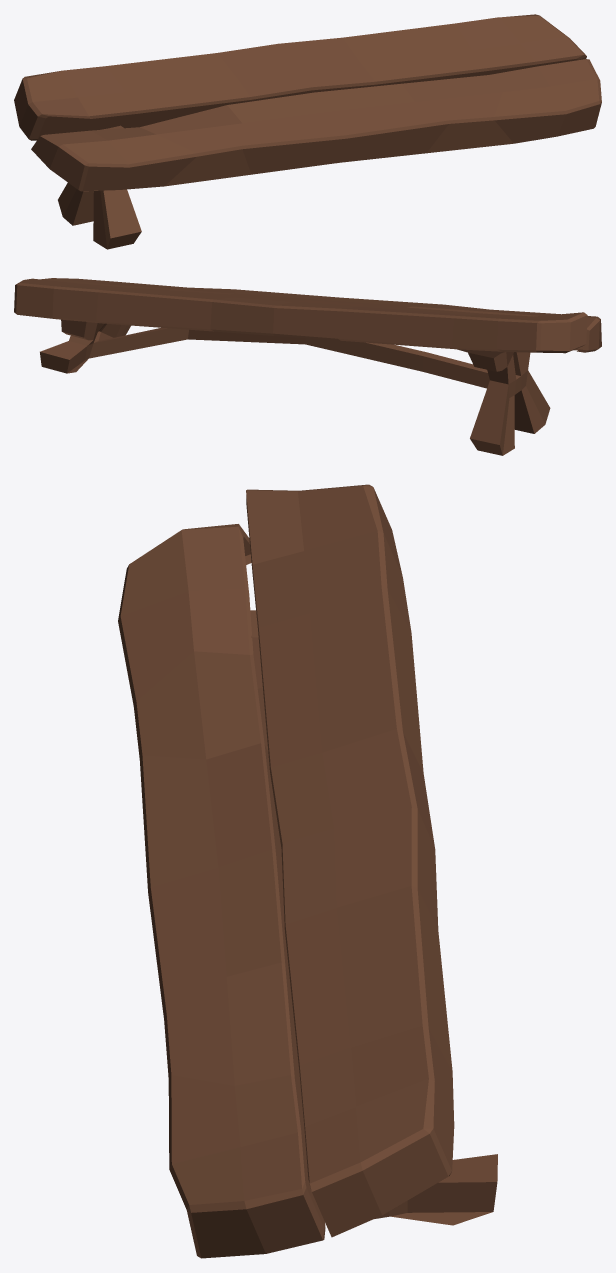
File: WoodenBenchBroken.fbx
3 renders of one model, top to bottom at view 1: azimuth 30°, elevation 25°; view 2: azimuth 150°, elevation 25°; view 3: azimuth 270°, elevation 25°, orthographic. The views are drawn at different scales.
Visible parts, largest first — view 1: WoodenBenchBroken; view 2: WoodenBenchBroken; view 3: WoodenBenchBroken.
Part boxes in pixels (bbox=[...]): WoodenBenchBroken: bbox=[14, 14, 601, 249]; WoodenBenchBroken: bbox=[14, 278, 601, 455]; WoodenBenchBroken: bbox=[118, 484, 497, 1258].
Bounding box in the file's own units: 283 × 71.56 × 85.09.
1 material, 1 textured.
